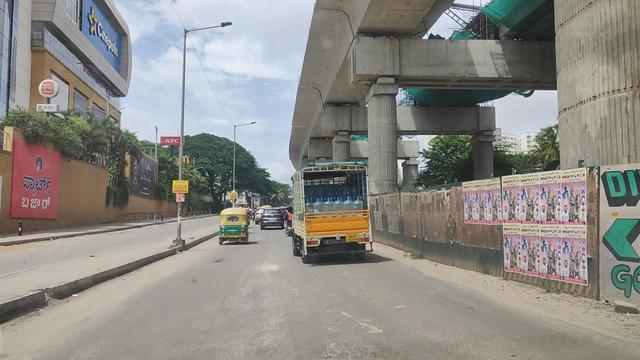HMV: (292, 160, 385, 269)
LMV: (216, 210, 249, 247)
